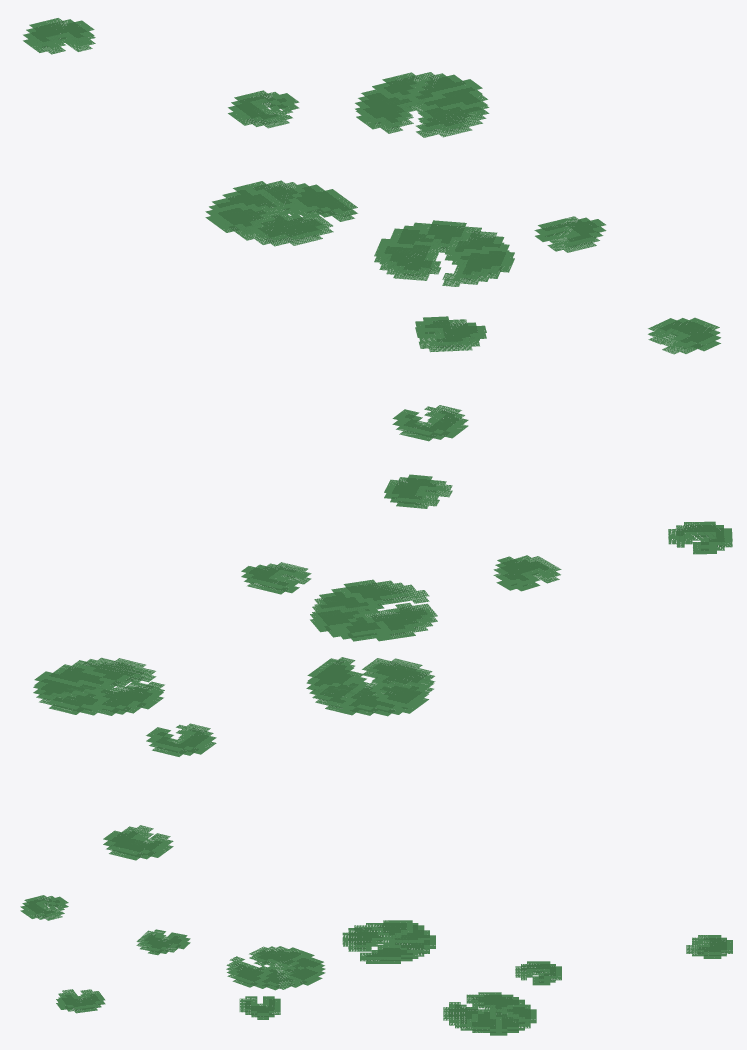
Rendered from swamp-lily.gltf.
The picture shows the model from 3 angles, top to bottom: view 1: azimuth 30°, elevation 25°; view 2: azimuth 150°, elevation 25°; view 3: azimuth 270°, elevation 25°; orthographic projection. The views are drawn at different scales.
Visible parts, largest first — view 1: swamp-lily-MERGED; view 2: swamp-lily-MERGED; view 3: swamp-lily-MERGED.
Boxes of the visible parts, x1,y1,x2,y2 form: swamp-lily-MERGED: (23,18,720,441); swamp-lily-MERGED: (33,474,732,860); swamp-lily-MERGED: (20,895,732,1035).
Size of the model in its own units: 5.64 by 0.0748 by 12.31.
Materials: 1 (1 with a texture image).
